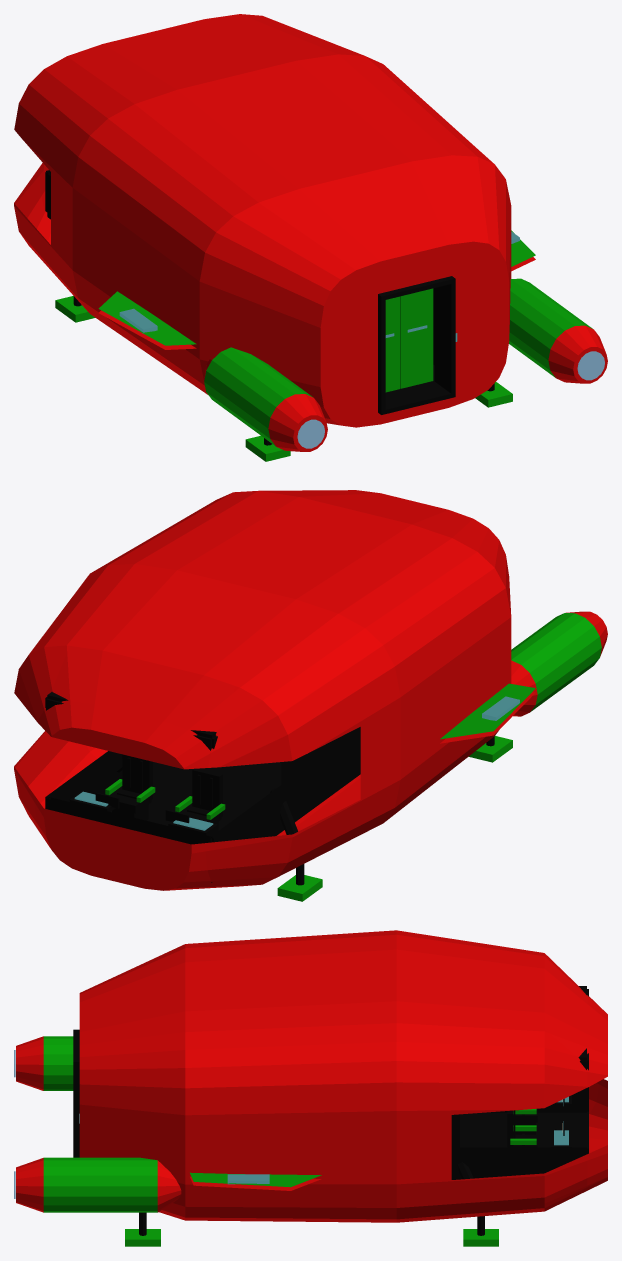
File: lark.glb
3 renders of one model, top to bottom at view 1: azimuth 30°, elevation 25°; view 2: azimuth 150°, elevation 25°; view 3: azimuth 270°, elevation 25°, orthographic. The views are drawn at different scales.
Visible parts, largest first — view 1: horizon_lark:survey_hull, horizon_lark:field_drive_1, horizon_lark:field_drive_2, horizon_lark:lock_passages, horizon_lark:door_eva-outer_1, horizon_lark:sensor_fin_-1, horizon_lark:door_eva-outer_-1, horizon_lark:gear_2, horizon_lark:gear_0, horizon_lark:sensor_fin_1; view 2: horizon_lark:survey_hull, horizon_lark:room_bridge, horizon_lark:field_drive_1, horizon_lark:sensor_fin_-1, horizon_lark:seat_1, horizon_lark:seat_0, horizon_lark:furnishings_bridge, horizon_lark:gear_0, horizon_lark:gear_2; view 3: horizon_lark:survey_hull, horizon_lark:field_drive_2, horizon_lark:room_bridge, horizon_lark:field_drive_1, horizon_lark:sensor_fin_1, horizon_lark:lock_passages, horizon_lark:seat_1, horizon_lark:gear_3, horizon_lark:gear_1, horizon_lark:furnishings_bridge, horizon_lark:seat_0.
Part boxes in pixels (x1,y1,x2,y2): horizon_lark:survey_hull: (14, 14, 511, 427); horizon_lark:field_drive_1: (204, 347, 327, 451); horizon_lark:field_drive_2: (509, 278, 607, 383); horizon_lark:lock_passages: (378, 276, 455, 414); horizon_lark:door_eva-outer_1: (400, 288, 433, 388); horizon_lark:sensor_fin_-1: (98, 291, 196, 349); horizon_lark:door_eva-outer_-1: (385, 296, 400, 392); horizon_lark:gear_2: (245, 435, 290, 461); horizon_lark:gear_0: (55, 296, 95, 322); horizon_lark:sensor_fin_1: (511, 230, 535, 271); horizon_lark:survey_hull: (14, 490, 511, 890); horizon_lark:room_bridge: (45, 697, 360, 882); horizon_lark:field_drive_1: (511, 611, 607, 716); horizon_lark:sensor_fin_-1: (440, 683, 535, 743); horizon_lark:seat_1: (105, 754, 155, 820); horizon_lark:seat_0: (175, 768, 225, 836); horizon_lark:furnishings_bridge: (69, 791, 218, 835); horizon_lark:gear_0: (277, 864, 322, 901); horizon_lark:gear_2: (468, 736, 512, 762); horizon_lark:survey_hull: (79, 930, 607, 1222); horizon_lark:field_drive_2: (14, 1157, 181, 1212); horizon_lark:room_bridge: (451, 989, 588, 1179); horizon_lark:field_drive_1: (14, 1036, 73, 1090); horizon_lark:sensor_fin_1: (190, 1172, 321, 1190); horizon_lark:lock_passages: (73, 1029, 79, 1157); horizon_lark:seat_1: (507, 1110, 537, 1147); horizon_lark:gear_3: (125, 1212, 160, 1246); horizon_lark:gear_1: (463, 1216, 498, 1246); horizon_lark:furnishings_bridge: (551, 1095, 571, 1147); horizon_lark:seat_0: (513, 1108, 537, 1134).
Size of the model in its own units: 9.6 by 5.68 by 14.05.
